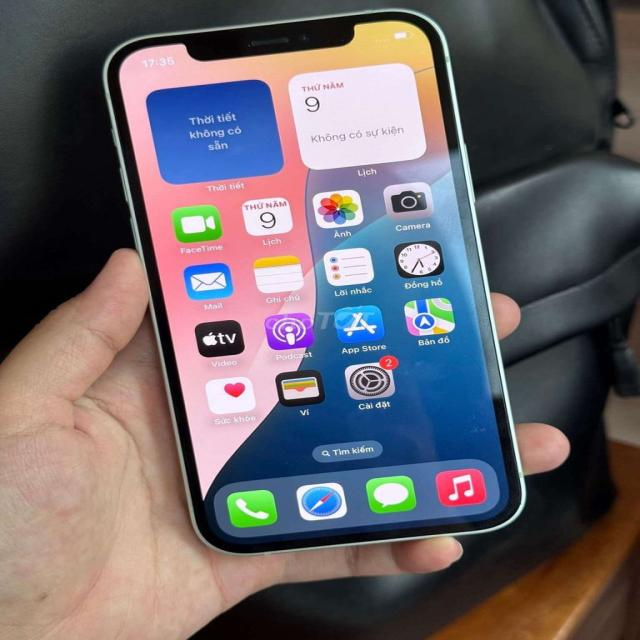gen_12_13: (87, 6, 536, 554)
